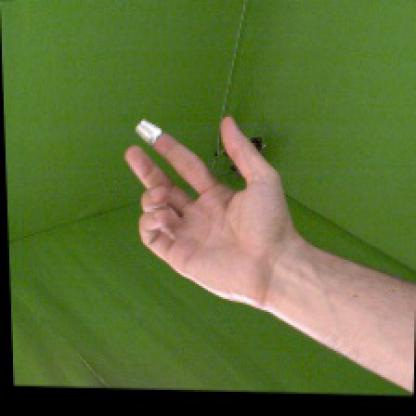Hand: (125, 114, 297, 304)
